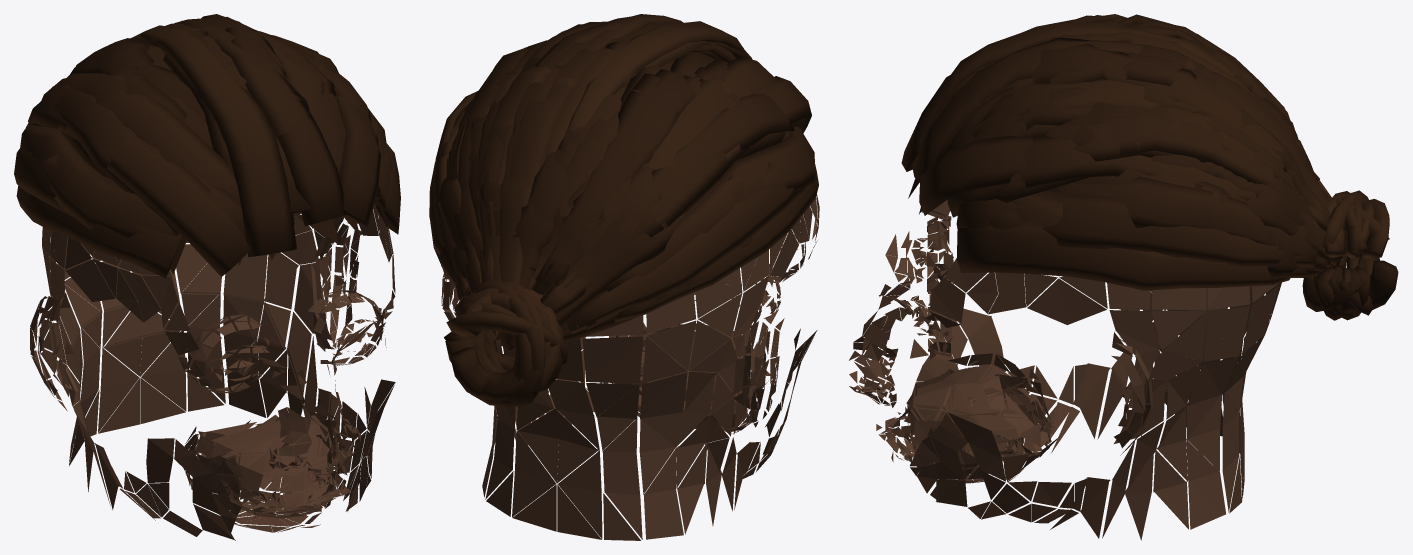
File: kopf.haar.undercut_bun.glb
The picture shows the model from 3 angles, left to right: view 1: azimuth 30°, elevation 25°; view 2: azimuth 150°, elevation 25°; view 3: azimuth 270°, elevation 25°; orthographic projection. The views are drawn at different scales.
Parts seen in each view (by area): view 1: haar; view 2: haar; view 3: haar.
Part boxes in pixels (x1,y1,x2,y2): haar: (14,14,400,540); haar: (429,14,819,540); haar: (849,14,1398,540).
Size of the model in its own units: 0.1689 by 0.2208 by 0.2401.
